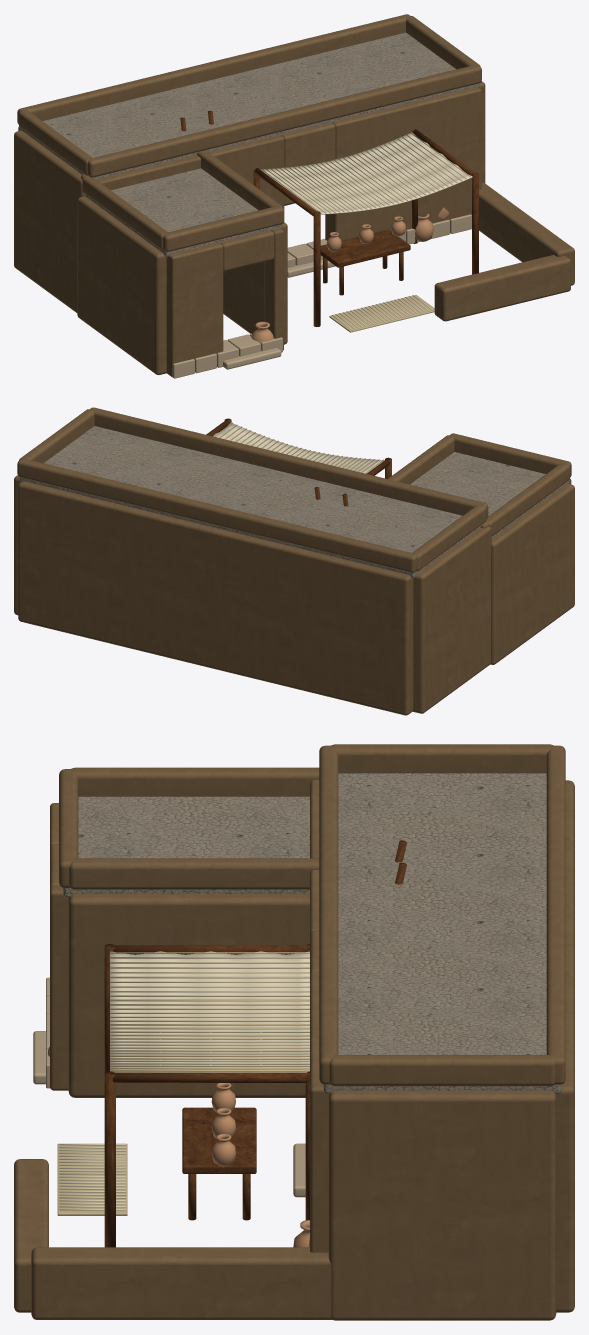
The model's file is adobe-courtyard.glb.
The picture shows the model from 3 angles, top to bottom: view 1: azimuth 30°, elevation 25°; view 2: azimuth 150°, elevation 25°; view 3: azimuth 270°, elevation 25°; orthographic projection. The views are drawn at different scales.
Parts seen in each view (by area): view 1: flat-packed-roof, side-adobe-wall.002, door-right, side-adobe-wall, woven-shade, roof-parapet, roof-parapet.001, door-left.001, flat-packed-roof.001, low-courtyard-wall.001, low-courtyard-wall, door-left (+17 smaller); view 2: rear-adobe-wall, flat-packed-roof, side-adobe-wall, side-adobe-wall.002, roof-parapet.001, roof-parapet, flat-packed-roof.001, roof-parapet.004, roof-parapet.006, woven-shade, roof-parapet.002, roof-parapet.003 (+2 smaller); view 3: flat-packed-roof, side-adobe-wall.001, low-courtyard-wall, side-adobe-wall.003, woven-shade, flat-packed-roof.001, roof-parapet.007, rear-adobe-wall, roof-parapet.003, roof-parapet.006, roof-parapet.001, roof-parapet (+12 smaller).
Part boxes in pixels (x1,y1,x2,y2): flat-packed-roof: (19, 32, 479, 179); side-adobe-wall.002: (77, 196, 166, 374); door-right: (325, 87, 481, 240); side-adobe-wall: (14, 130, 85, 312); woven-shade: (260, 132, 472, 214); roof-parapet: (87, 65, 481, 177); roof-parapet.001: (17, 14, 410, 123); door-left.001: (166, 242, 223, 376); flat-packed-roof.001: (85, 168, 282, 257); low-courtyard-wall.001: (434, 255, 570, 321); low-courtyard-wall: (479, 183, 574, 285); door-left: (96, 135, 284, 209); rear-adobe-wall: (18, 481, 413, 715); flat-packed-roof: (19, 426, 480, 578); side-adobe-wall: (413, 526, 491, 713); side-adobe-wall.002: (490, 483, 574, 664); roof-parapet.001: (17, 458, 416, 572); roof-parapet: (90, 407, 488, 518); flat-packed-roof.001: (410, 452, 569, 538); roof-parapet.004: (450, 433, 571, 476); roof-parapet.006: (486, 463, 570, 536); woven-shade: (213, 422, 384, 473); roof-parapet.002: (412, 504, 486, 570); roof-parapet.003: (19, 409, 94, 463); flat-packed-roof: (323, 773, 561, 1094); side-adobe-wall.001: (328, 1090, 556, 1320); low-courtyard-wall: (31, 1247, 331, 1319); side-adobe-wall.003: (68, 894, 309, 1097); woven-shade: (110, 951, 309, 1072); flat-packed-roof.001: (63, 796, 309, 897); roof-parapet.007: (69, 858, 319, 889); rear-adobe-wall: (556, 780, 574, 1312); roof-parapet.003: (329, 1055, 555, 1086); roof-parapet.006: (71, 767, 319, 796); roof-parapet.001: (546, 745, 565, 1084); roof-parapet: (319, 745, 338, 1084).
Bounding box in the file's own units: 8.9 × 3.26 × 6.42.
Materials: 7 (3 with a texture image).
